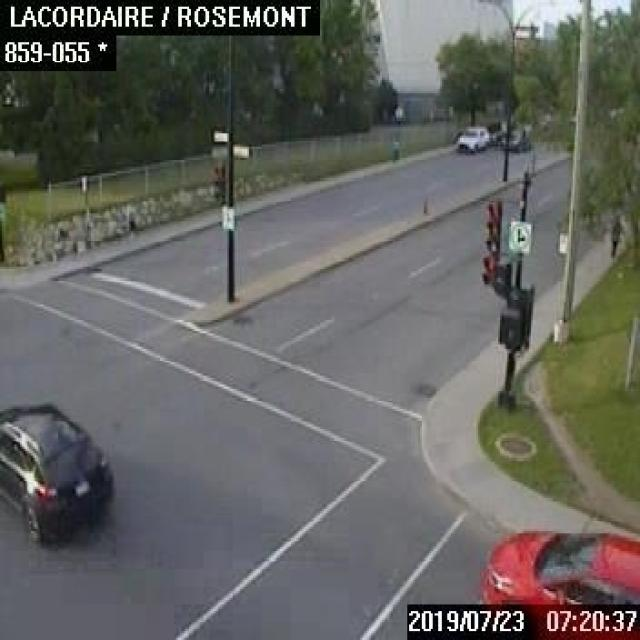pedestrian: (609, 214, 622, 255)
vehicle: (0, 402, 113, 544), (478, 528, 638, 600), (456, 125, 488, 152), (500, 129, 530, 151)
